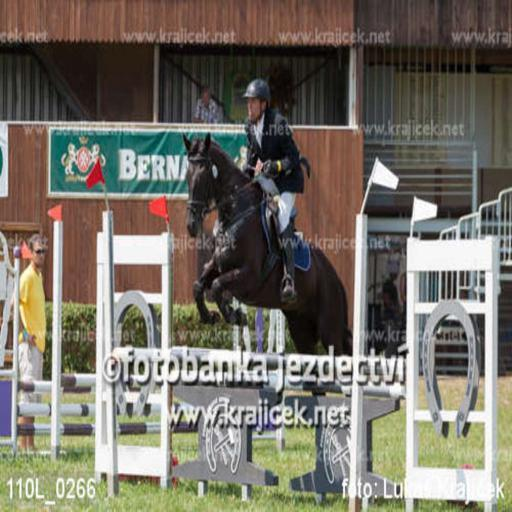horse: (180, 130, 354, 396)
